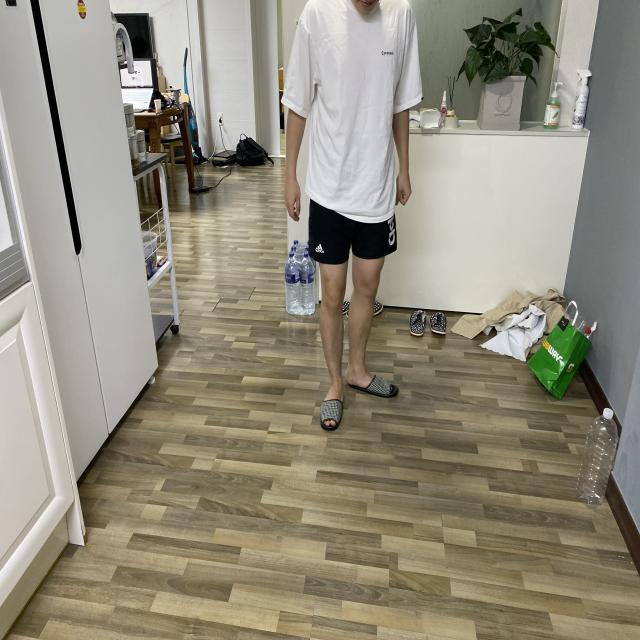no-boots: (340, 359, 407, 412), (312, 378, 346, 448)
